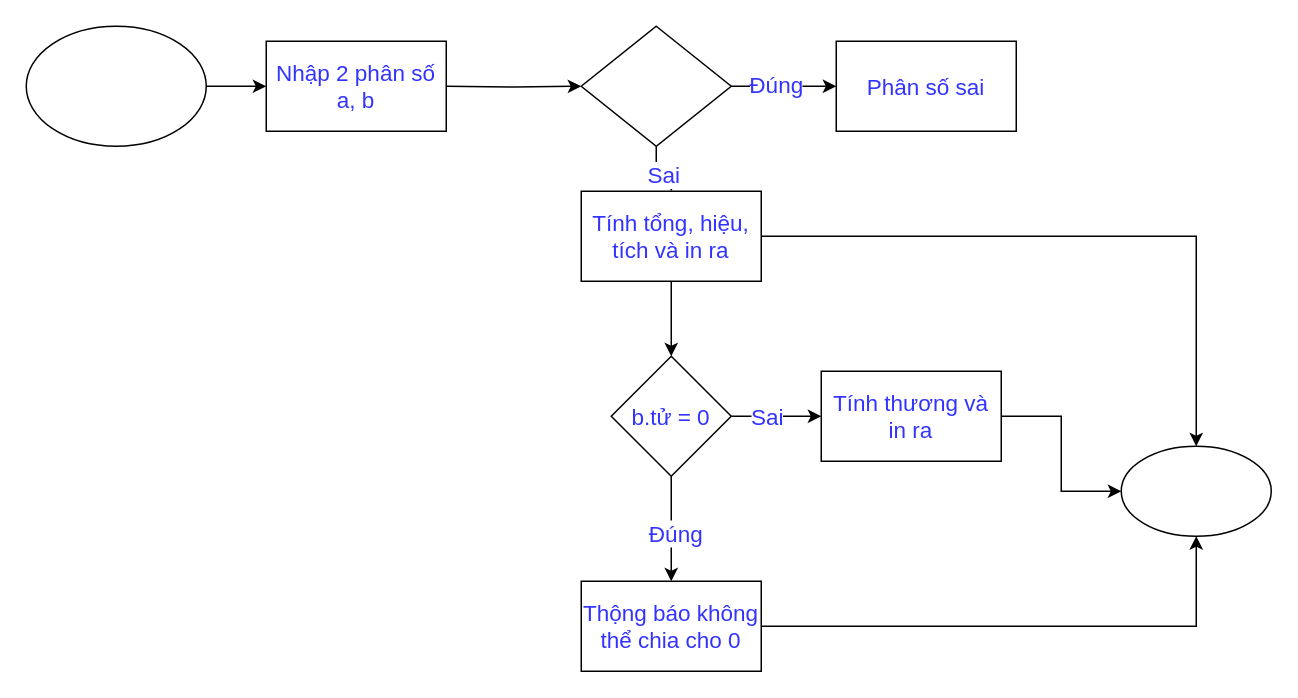
This 1298x698 diagram has some shape labels left out. The shapes that lost their labels are listed below. From the top down, each one's box as (x1, y1, x2, y2) in pixels, then its label:
(25, 25, 206, 146): Start
(580, 25, 731, 146): Một trong 2 mẫu = 0
(1120, 445, 1271, 536): End
